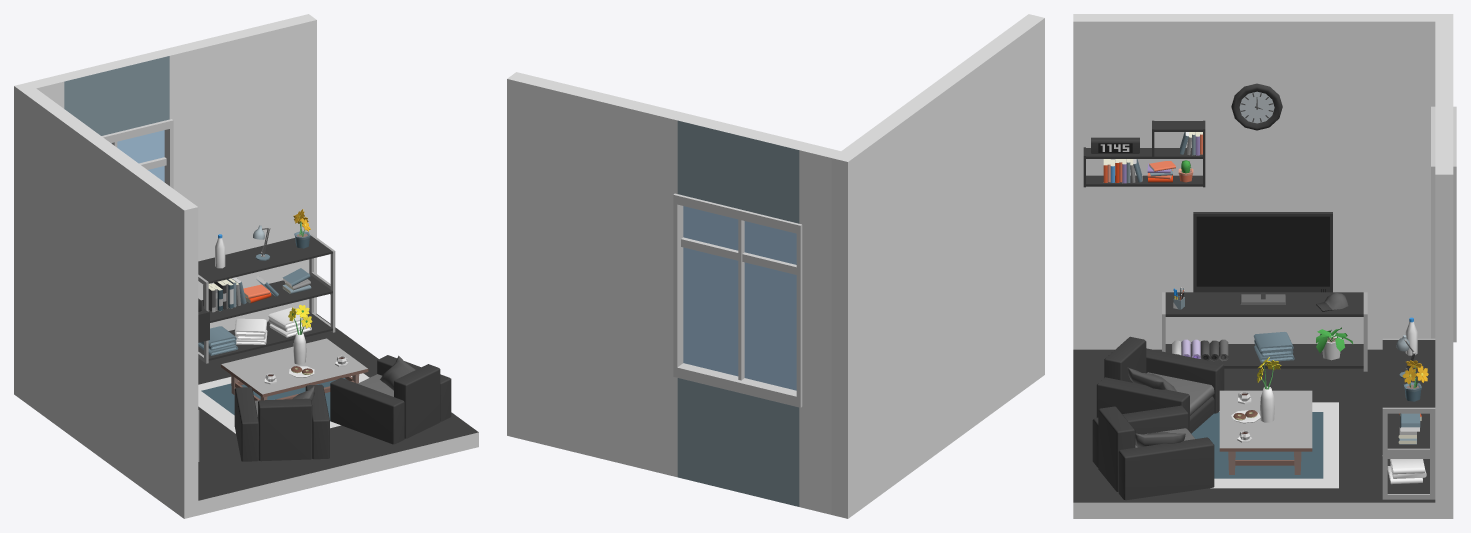
File: room_13.glb
The picture shows the model from 3 angles, left to right: view 1: azimuth 30°, elevation 25°; view 2: azimuth 150°, elevation 25°; view 3: azimuth 270°, elevation 25°; orthographic projection. The views are drawn at different scales.
Parts seen in each view (by area): view 1: Walls_006.039, Walls_006.040, Walls_011.007, armchair_002.002, Walls_116.013, shelf_010.001, armchair_002.001, coffee_table_019.002, window_019.002, carpet_004.004, prop_001.029, clothes_007.005 (+5 smaller); view 2: Walls_006.039, Walls_006.040, window_019.002, Walls_116.014, Walls_006.041, Walls_116.013; view 3: Walls_006.039, Walls_011.007, electronics_031.009, armchair_002.002, Walls_006.040, armchair_002.001, shelf_071.001, shelf_010.001, carpet_004.004, coffee_table_019.002, shelf_044.001, window_019.002 (+12 smaller).
Boxes of the visible parts, x1,y1,x2,y2 form: Walls_006.039: [14, 82, 198, 518]; Walls_006.040: [162, 14, 316, 330]; Walls_011.007: [198, 313, 478, 515]; armchair_002.002: [330, 355, 451, 444]; Walls_116.013: [56, 50, 169, 135]; shelf_010.001: [198, 234, 335, 363]; armchair_002.001: [234, 384, 329, 461]; coffee_table_019.002: [221, 338, 368, 400]; window_019.002: [101, 119, 173, 188]; carpet_004.004: [198, 373, 369, 433]; prop_001.029: [203, 277, 246, 312]; clothes_007.005: [234, 318, 267, 344]; Walls_006.039: [831, 14, 1044, 518]; Walls_006.040: [507, 72, 686, 477]; window_019.002: [673, 193, 802, 407]; Walls_116.014: [677, 378, 799, 506]; Walls_006.041: [799, 143, 840, 514]; Walls_116.013: [677, 113, 808, 223]; Walls_006.039: [1073, 14, 1453, 349]; Walls_011.007: [1073, 349, 1435, 518]; electronics_031.009: [1193, 212, 1332, 304]; armchair_002.002: [1092, 405, 1214, 500]; Walls_006.040: [1435, 94, 1453, 518]; armchair_002.001: [1096, 336, 1224, 433]; shelf_071.001: [1162, 292, 1367, 371]; shelf_010.001: [1382, 338, 1435, 499]; carpet_004.004: [1191, 402, 1338, 488]; coffee_table_019.002: [1219, 390, 1312, 474]; shelf_044.001: [1083, 120, 1205, 187]; window_019.002: [1431, 106, 1456, 342].
Bounding box in the file's own units: 4.2 × 4.2 × 4.24.
1 material, 1 textured.
